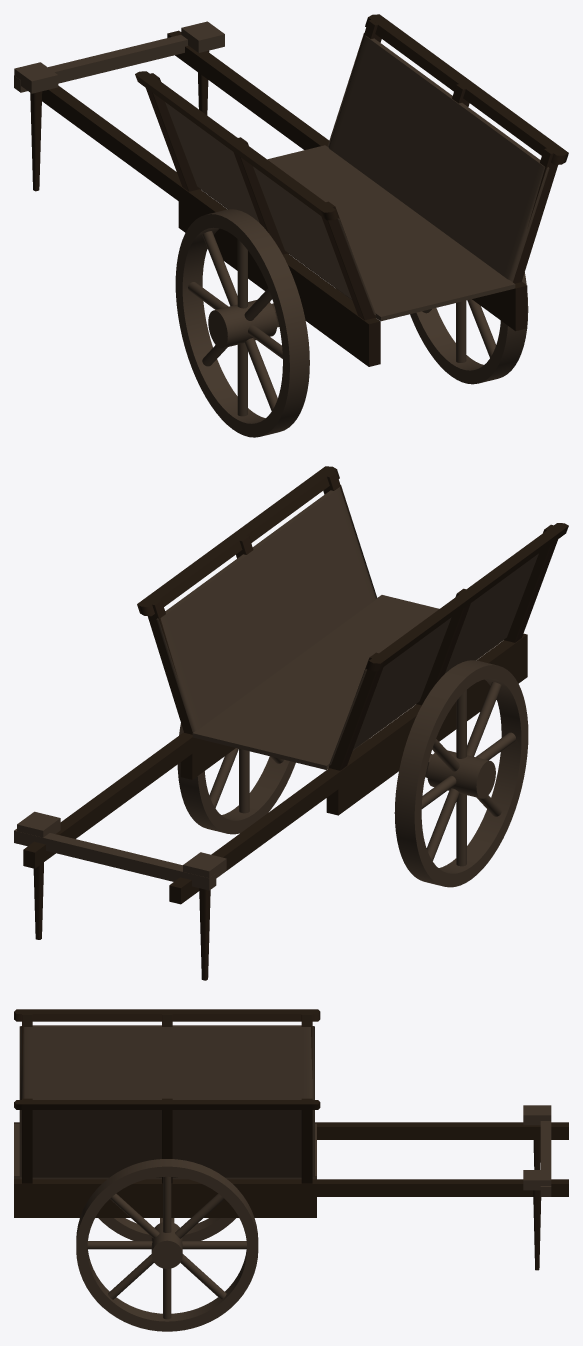
3 views of the same model, one above another, from view 1: azimuth 30°, elevation 25°; view 2: azimuth 150°, elevation 25°; view 3: azimuth 270°, elevation 25° (orthographic). The views are drawn at different scales.
Parts seen in each view (by area): view 1: broad_side, rim.001, floor, broad_side.001, shaft.001, rim, raised_rail, shaft, underframe.001, raised_rail.001, end_crossbar, upright.004 (+7 smaller); view 2: broad_side, rim.001, floor, broad_side.001, shaft.001, rim, shaft, raised_rail, raised_rail.001, underframe.001, end_crossbar, upright.006 (+8 smaller); view 3: broad_side.001, broad_side, rim, shaft, underframe.002, shaft.001, raised_rail.001, raised_rail, rim.001, floor, upright.003, upright.001 (+5 smaller).
Part boxes in pixels (bbox=[...]): broad_side: bbox=[327, 33, 549, 281]; rim.001: bbox=[175, 209, 309, 437]; floor: bbox=[200, 145, 515, 321]; broad_side.001: bbox=[165, 102, 375, 315]; shaft.001: bbox=[42, 85, 378, 339]; rim: bbox=[410, 272, 528, 384]; raised_rail: bbox=[365, 14, 568, 164]; shaft: bbox=[167, 30, 525, 303]; underframe.001: bbox=[178, 201, 380, 366]; raised_rail.001: bbox=[135, 71, 338, 220]; end_crossbar: bbox=[14, 35, 187, 92]; upright.004: bbox=[321, 201, 375, 320]; broad_side: bbox=[156, 485, 377, 732]; rim.001: bbox=[394, 660, 528, 887]; floor: bbox=[192, 595, 503, 769]; broad_side.001: bbox=[329, 553, 538, 765]; shaft.001: bbox=[169, 634, 526, 904]; rim: bbox=[177, 723, 295, 834]; shaft: bbox=[23, 732, 208, 868]; raised_rail: bbox=[137, 466, 339, 616]; raised_rail.001: bbox=[366, 523, 568, 671]; underframe.001: bbox=[326, 633, 527, 815]; end_crossbar: bbox=[14, 829, 216, 890]; upright.006: bbox=[329, 652, 383, 770]; broad_side.001: bbox=[19, 1025, 314, 1099]; broad_side: bbox=[19, 1110, 314, 1177]; rim: bbox=[76, 1159, 258, 1331]; shaft: bbox=[15, 1179, 568, 1196]; underframe.002: bbox=[14, 1179, 316, 1217]; shaft.001: bbox=[15, 1122, 568, 1139]; raised_rail.001: bbox=[14, 1009, 320, 1021]; raised_rail: bbox=[14, 1100, 320, 1109]; rim.001: bbox=[98, 1218, 235, 1240]; floor: bbox=[14, 1123, 316, 1179]; upright.003: bbox=[301, 1098, 312, 1183]; upright.001: bbox=[22, 1098, 32, 1183].
Size of the model in its own units: 0.792 by 0.811 by 1.79.
